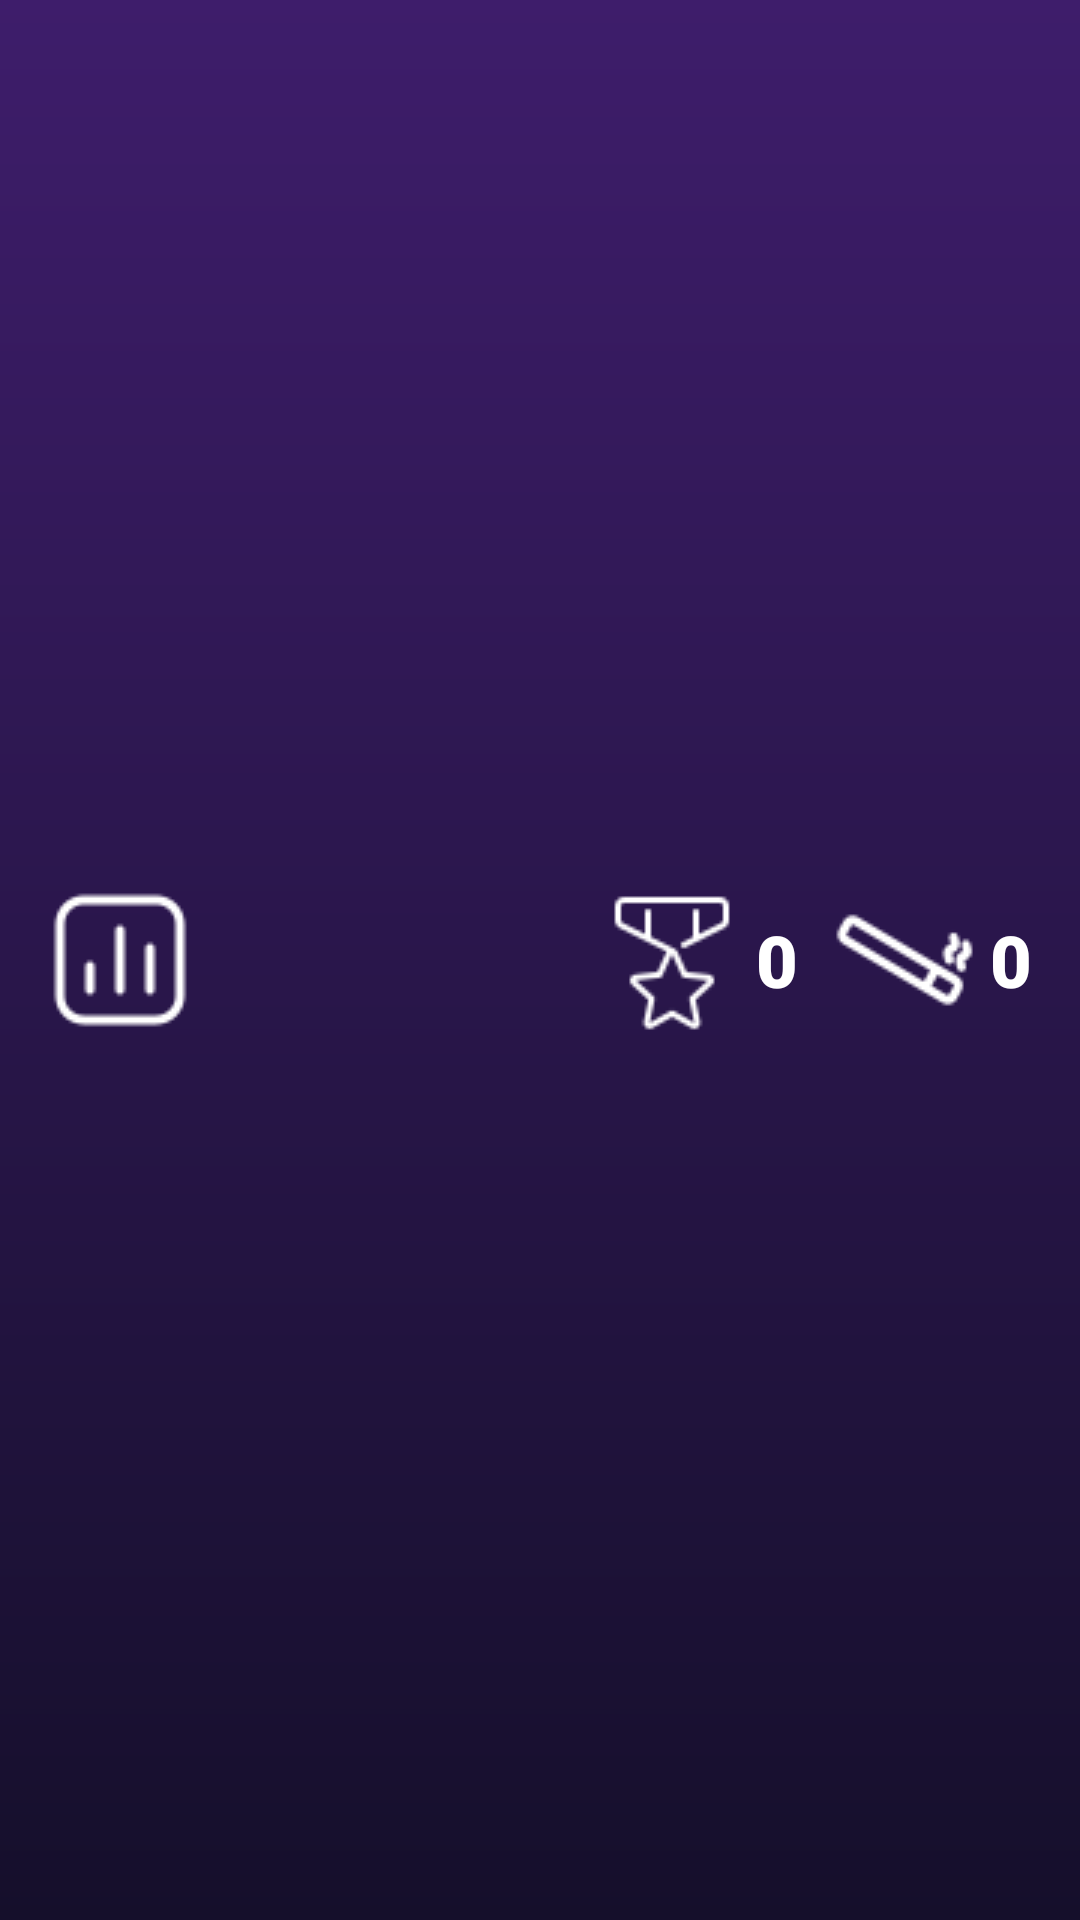

Screen size 1080*1920. Icon name, then its center in pixels as [x,y]:
Icono de cigarro: [904,960]
Ver estadísticas: [120,960]
Ver logros: [672,963]
